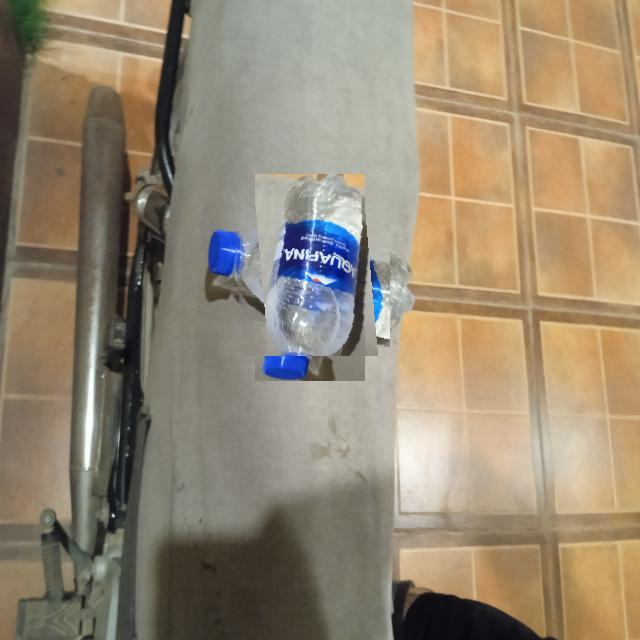Plastic: (230, 198, 390, 356)
